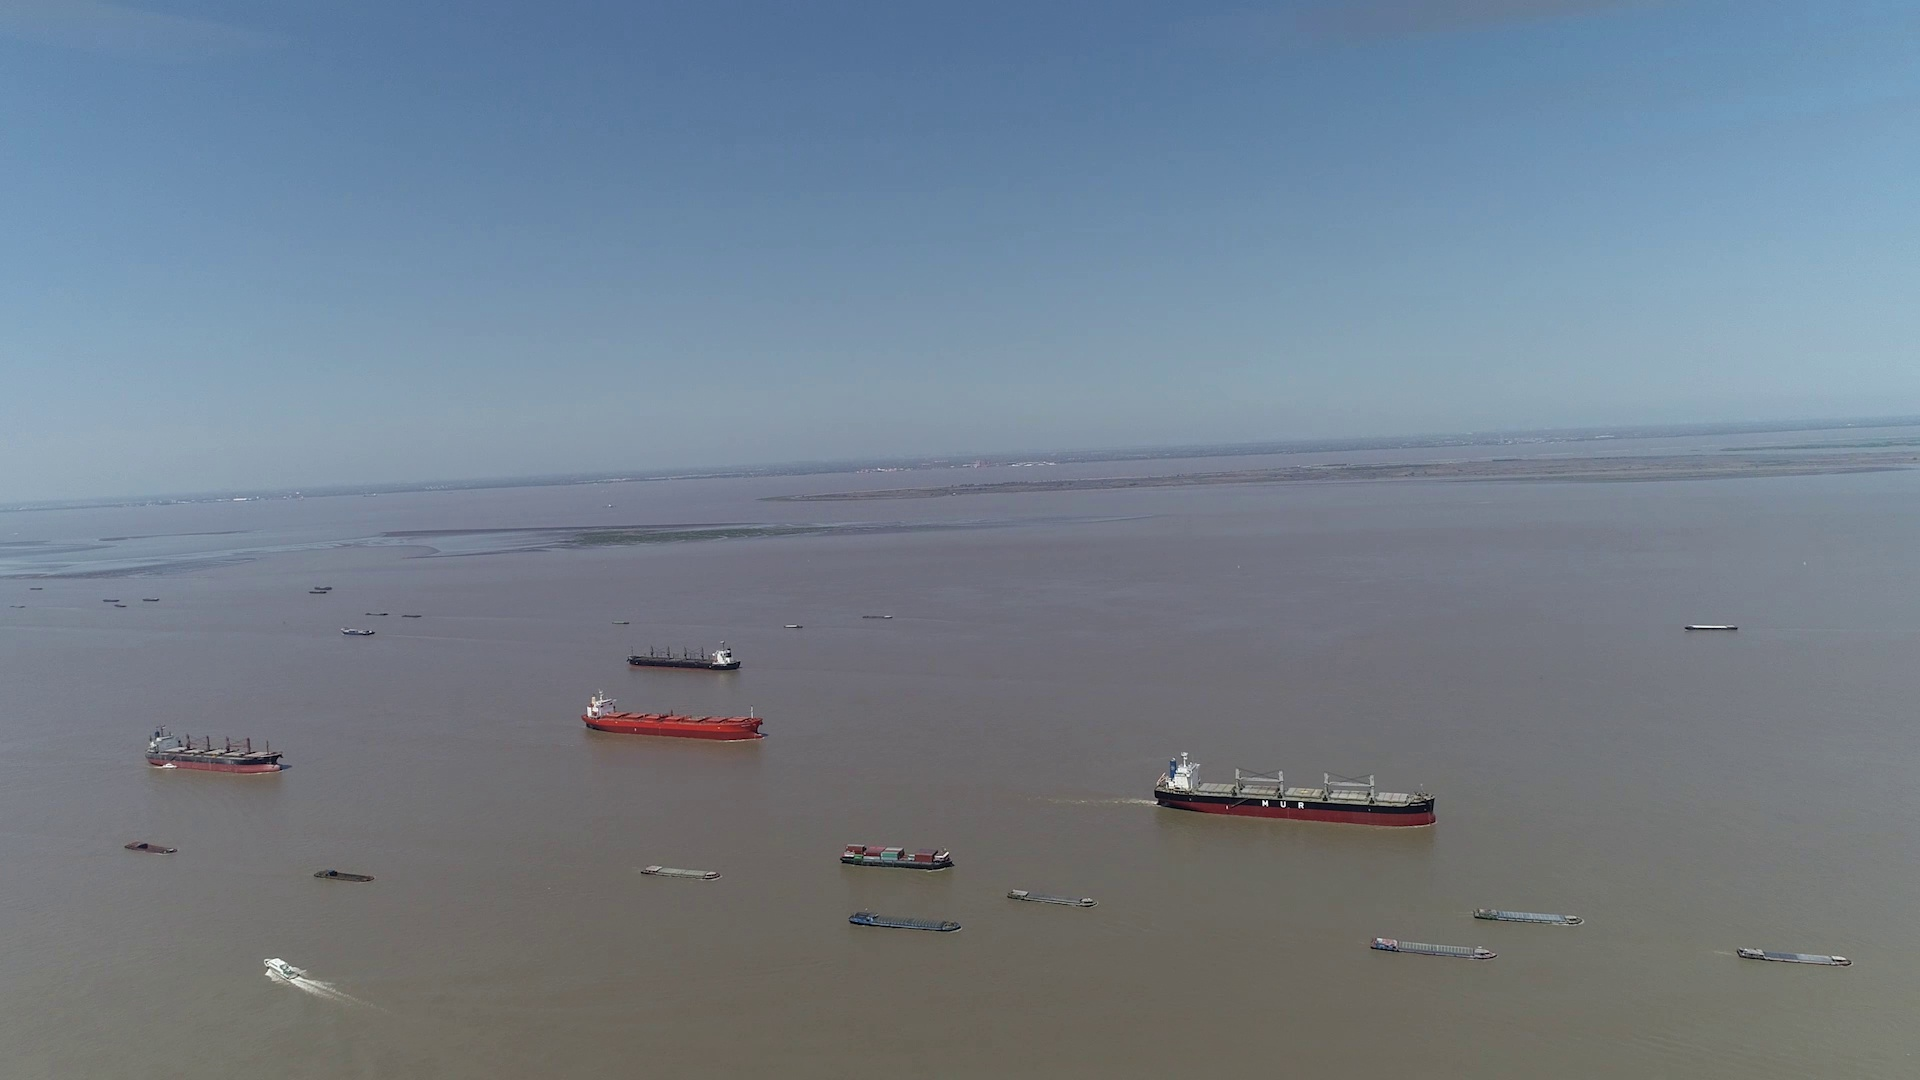ship: (1156, 752, 1437, 827), (580, 691, 764, 741), (144, 724, 282, 773), (626, 642, 741, 670), (837, 844, 953, 870), (1371, 938, 1498, 961), (1735, 945, 1855, 967), (847, 910, 961, 931), (1472, 906, 1580, 924), (1009, 887, 1095, 907), (642, 864, 720, 880), (264, 957, 294, 980), (124, 840, 173, 853), (316, 872, 376, 882), (1687, 622, 1738, 632), (343, 626, 376, 636)
